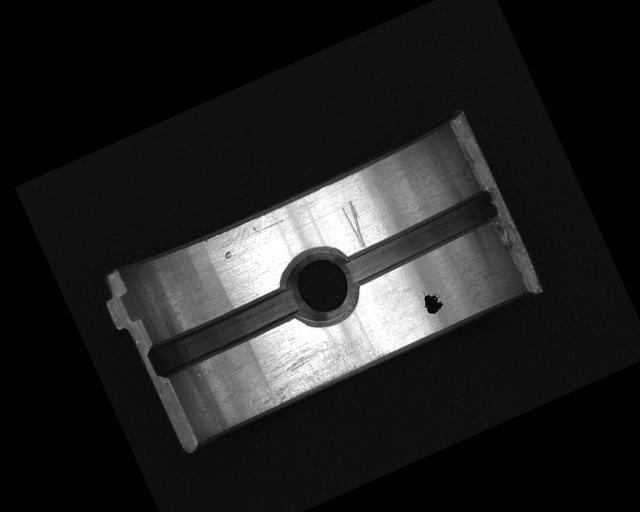blot: (417, 284, 447, 318)
bruise: (222, 249, 234, 260)
gap: (335, 183, 507, 290), (142, 280, 306, 381)
hole: (275, 240, 367, 335)
nick: (338, 198, 373, 251)
scratch: (235, 315, 393, 419)
